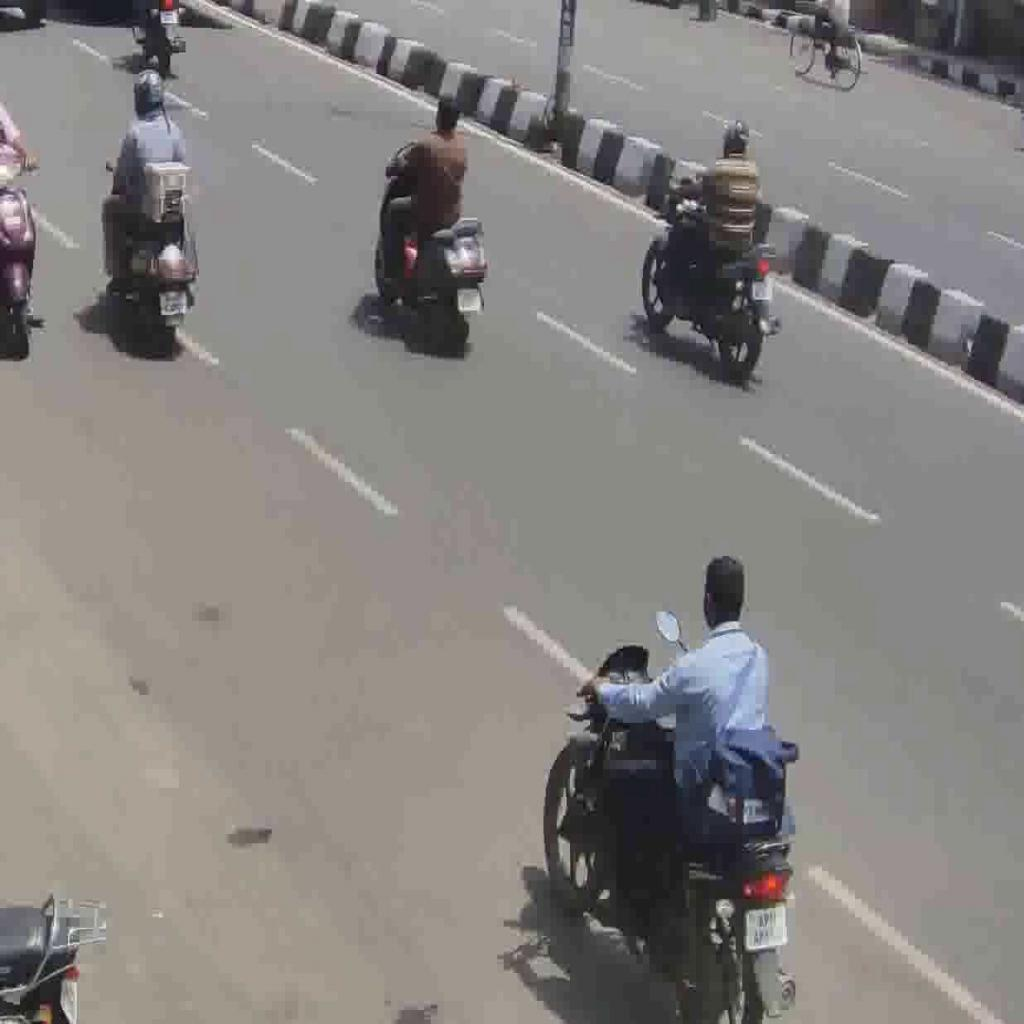helmet: (542, 639, 798, 1024), (642, 173, 782, 382), (374, 138, 489, 350), (108, 151, 200, 354)
